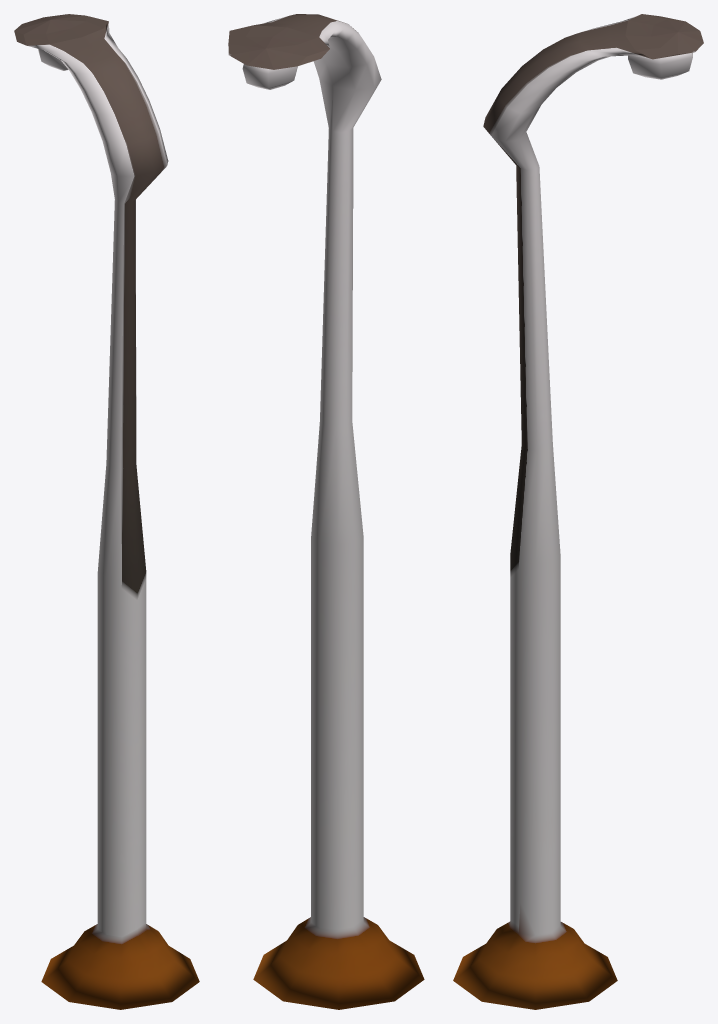
The model's file is lamp_post.fbx.
3 renders of one model, left to right at view 1: azimuth 30°, elevation 25°; view 2: azimuth 150°, elevation 25°; view 3: azimuth 270°, elevation 25°, orthographic. The views are drawn at different scales.
Parts seen in each view (by area): view 1: lamp_post1; view 2: lamp_post1; view 3: lamp_post1.
Part boxes in pixels (left/top/right/bottom): lamp_post1: left=14, top=14, right=199, bottom=1009; lamp_post1: left=228, top=14, right=424, bottom=1009; lamp_post1: left=453, top=14, right=703, bottom=1009.
Bounding box in the file's own units: 0.5128 × 3.28 × 0.793.
Materials: 1 (1 with a texture image).
